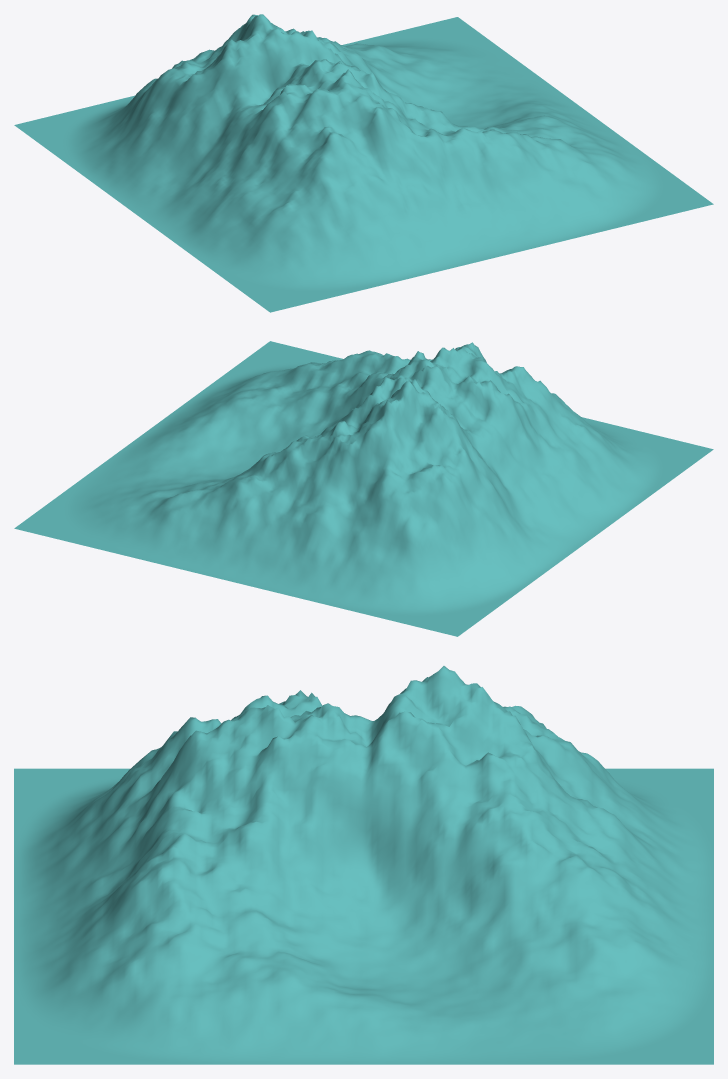
The picture shows the model from 3 angles, top to bottom: view 1: azimuth 30°, elevation 25°; view 2: azimuth 150°, elevation 25°; view 3: azimuth 270°, elevation 25°; orthographic projection. The views are drawn at different scales.
Visible parts, largest first — view 1: Landscape; view 2: Landscape; view 3: Landscape.
Part boxes in pixels (left/top/right/bottom): Landscape: left=14, top=14, right=713, bottom=312; Landscape: left=14, top=341, right=713, bottom=636; Landscape: left=14, top=666, right=713, bottom=1064.
Bounding box in the file's own units: 11.77 × 3.73 × 11.77.
